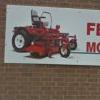Tractor: (13, 10, 82, 65)
